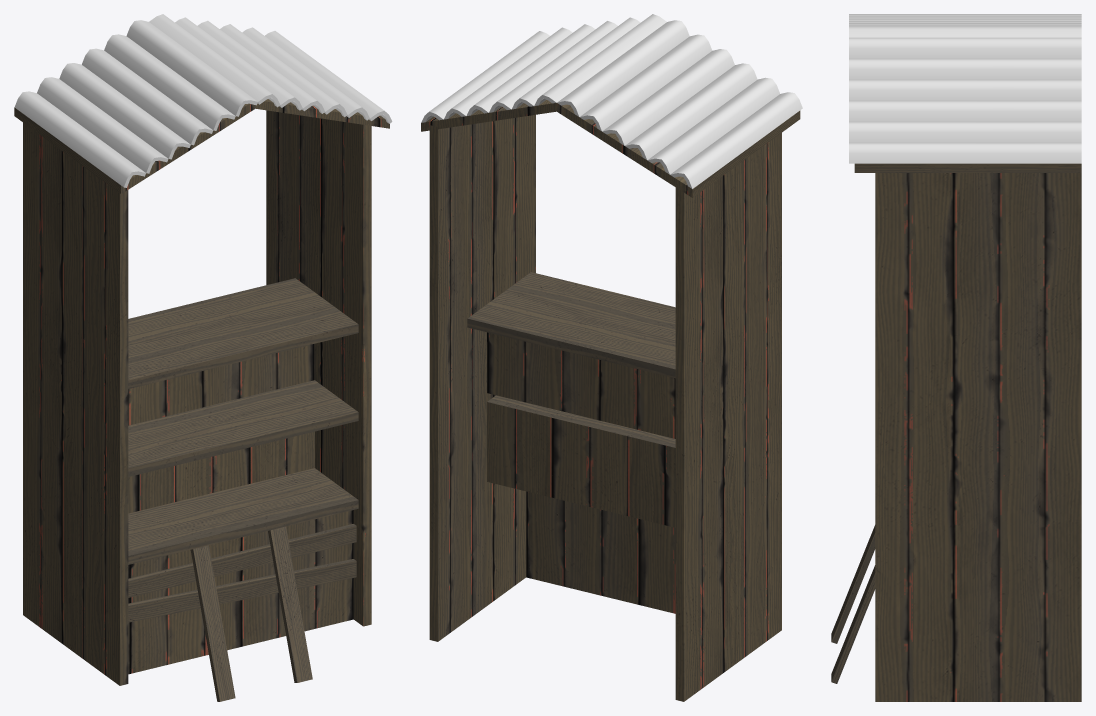
File: Shop_Booth.FBX
3 views of the same model, side by side, from view 1: azimuth 30°, elevation 25°; view 2: azimuth 150°, elevation 25°; view 3: azimuth 270°, elevation 25° (orthographic). The views are drawn at different scales.
Parts seen in each view (by area): view 1: Shop_Booth, Shop_Booth_Roof; view 2: Shop_Booth, Shop_Booth_Roof; view 3: Shop_Booth, Shop_Booth_Roof.
Part boxes in pixels (x1,y1,x2,y2): Shop_Booth: (14,99,389,701); Shop_Booth_Roof: (14,14,392,187); Shop_Booth: (421,100,800,701); Shop_Booth_Roof: (421,14,802,188); Shop_Booth: (831,163,1081,701); Shop_Booth_Roof: (849,14,1081,163).
Size of the model in its own units: 1.6 by 3.35 by 1.21.
